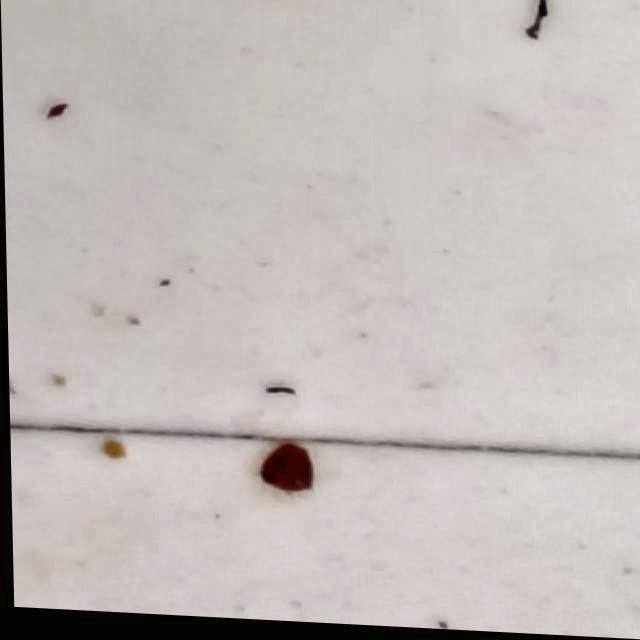varroa: (257, 448, 315, 499)
